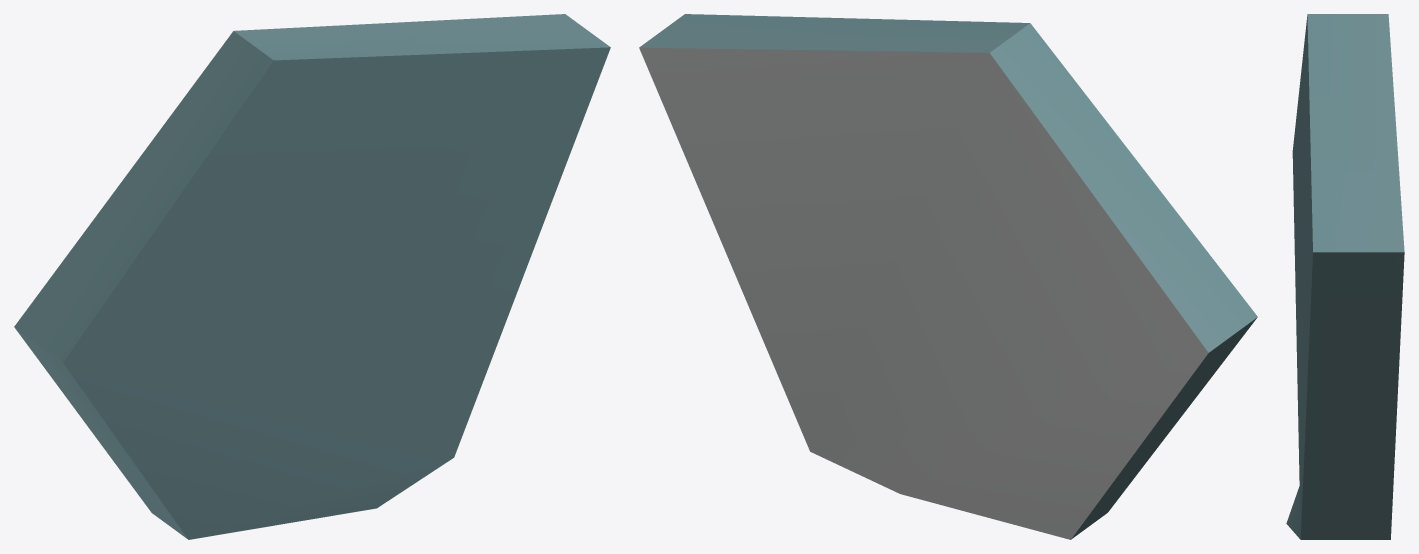
The model's file is IceDrift.006.glb.
3 renders of one model, left to right at view 1: azimuth 30°, elevation 25°; view 2: azimuth 150°, elevation 25°; view 3: azimuth 270°, elevation 25°, orthographic.
Visible parts, largest first — view 1: IceDrift.006; view 2: IceDrift.006; view 3: IceDrift.006.
Boxes of the visible parts, x1,y1,x2,y2 form: IceDrift.006: (14,14,610,539); IceDrift.006: (639,14,1257,539); IceDrift.006: (1286,14,1404,539).
Size of the model in its own units: 257 by 203 by 46.94.
